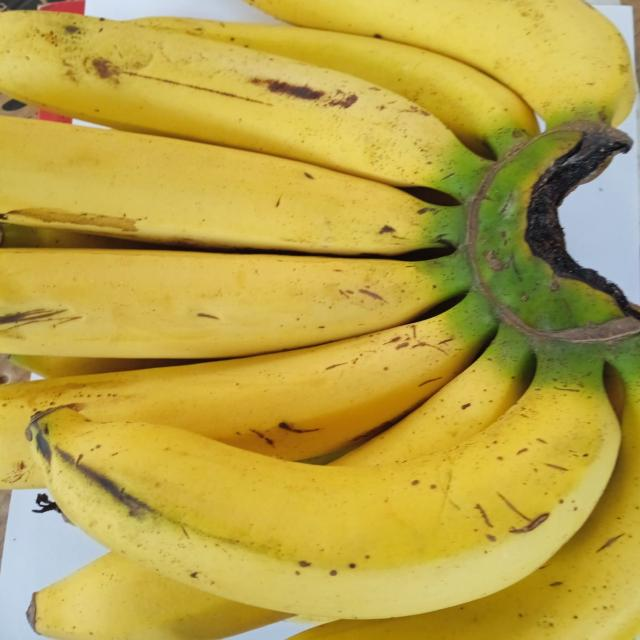banana: (27, 345, 619, 618), (296, 344, 639, 639), (0, 294, 495, 488), (0, 12, 490, 200), (0, 119, 464, 255), (135, 17, 539, 156), (0, 249, 469, 358), (247, 0, 636, 127), (332, 325, 532, 466), (28, 553, 289, 639), (28, 553, 287, 639), (0, 212, 151, 250), (9, 355, 197, 378)
